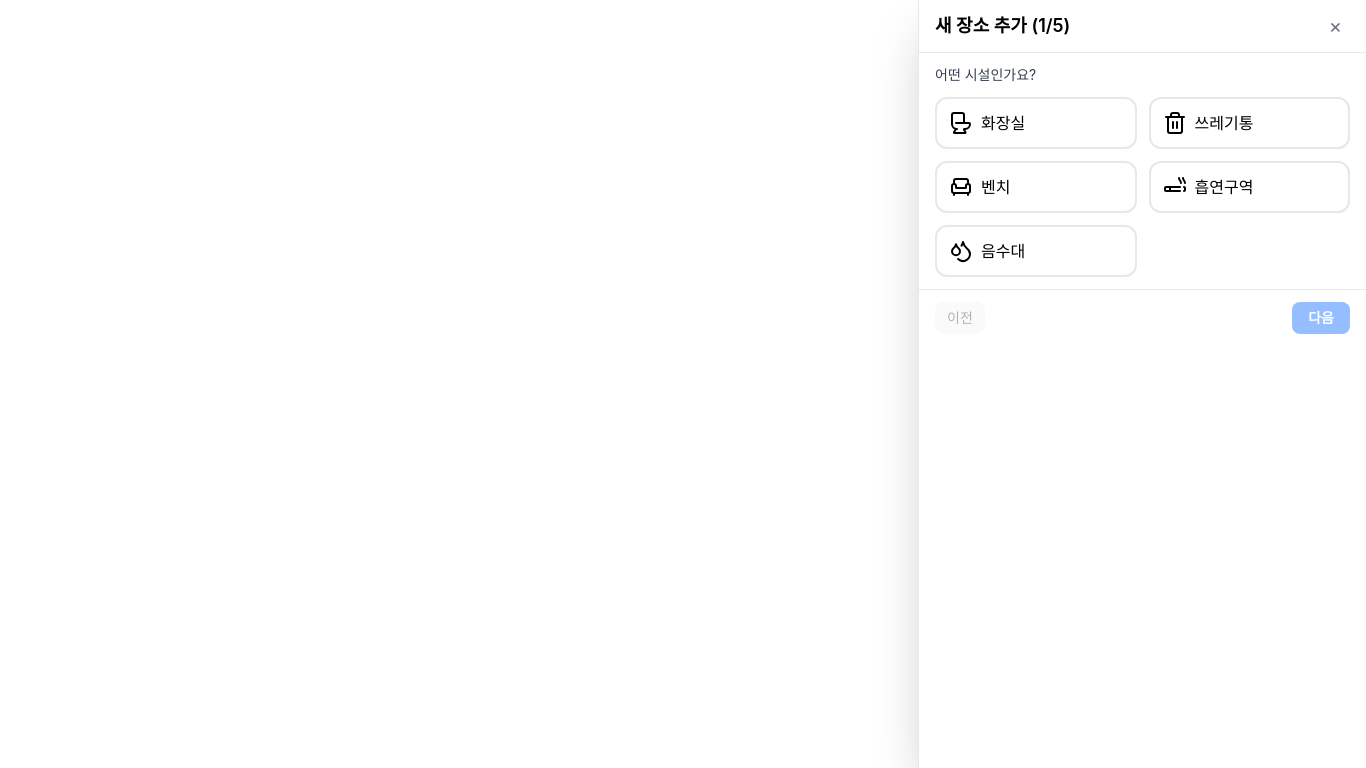
Scenario: SubmitSheet › advances through type → gps step
What coordinates should you click on to do the following:
click the button with test id "submit-type-toilet"
I would click on:
 (1036, 123)
Its box is [935, 97, 1136, 149].
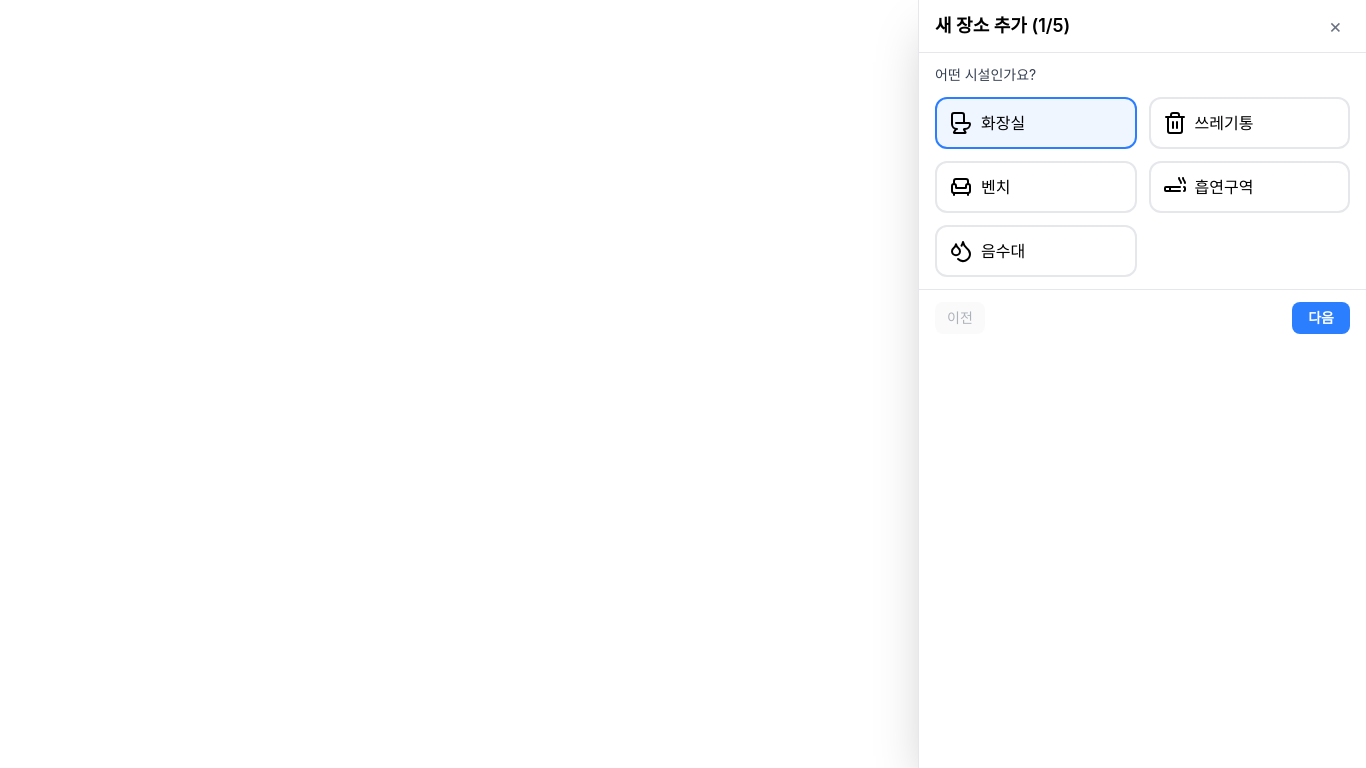
What coordinates should you click on to do the following:
click the button with test id "submit-next"
I would click on:
 (1321, 318)
Its box is [1292, 302, 1350, 334].
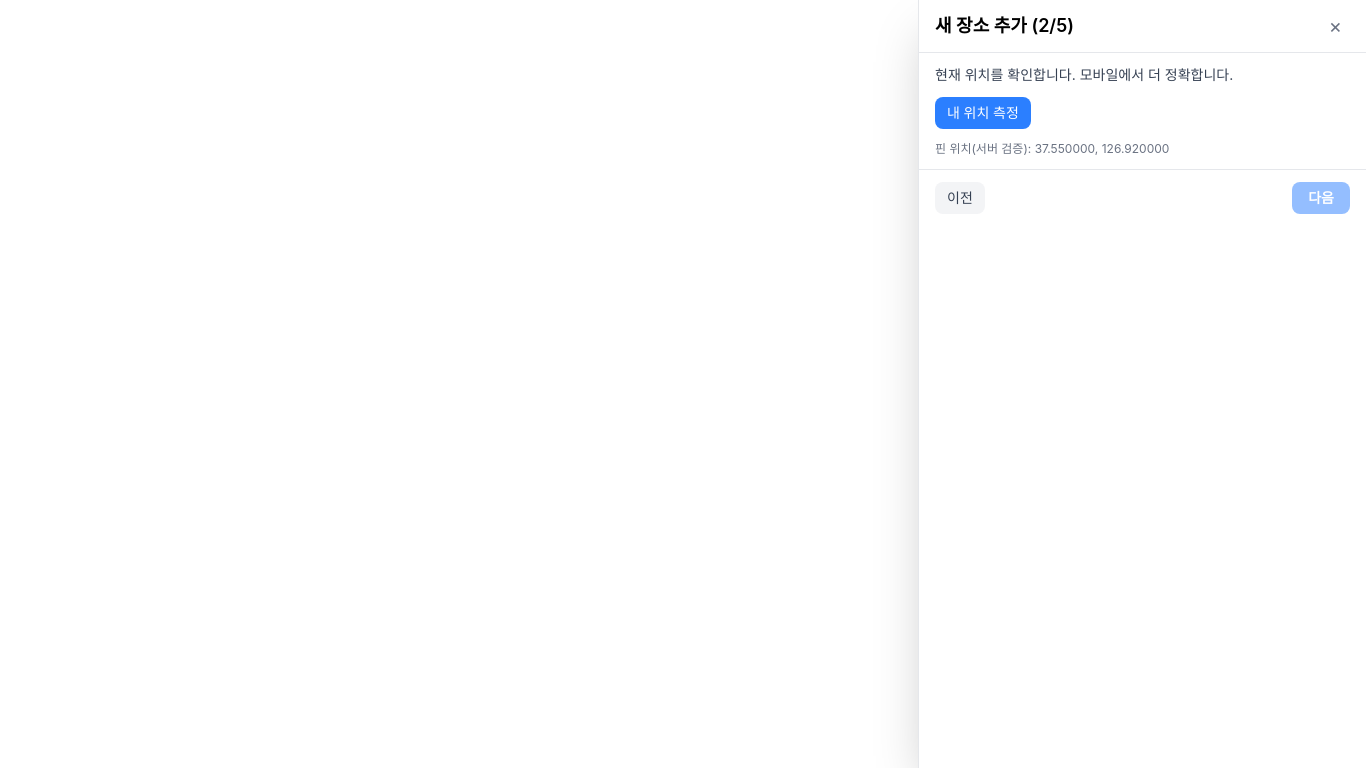
Expected: the element with test id "submit-step-gps" is shown, [935, 66, 1233, 156]
